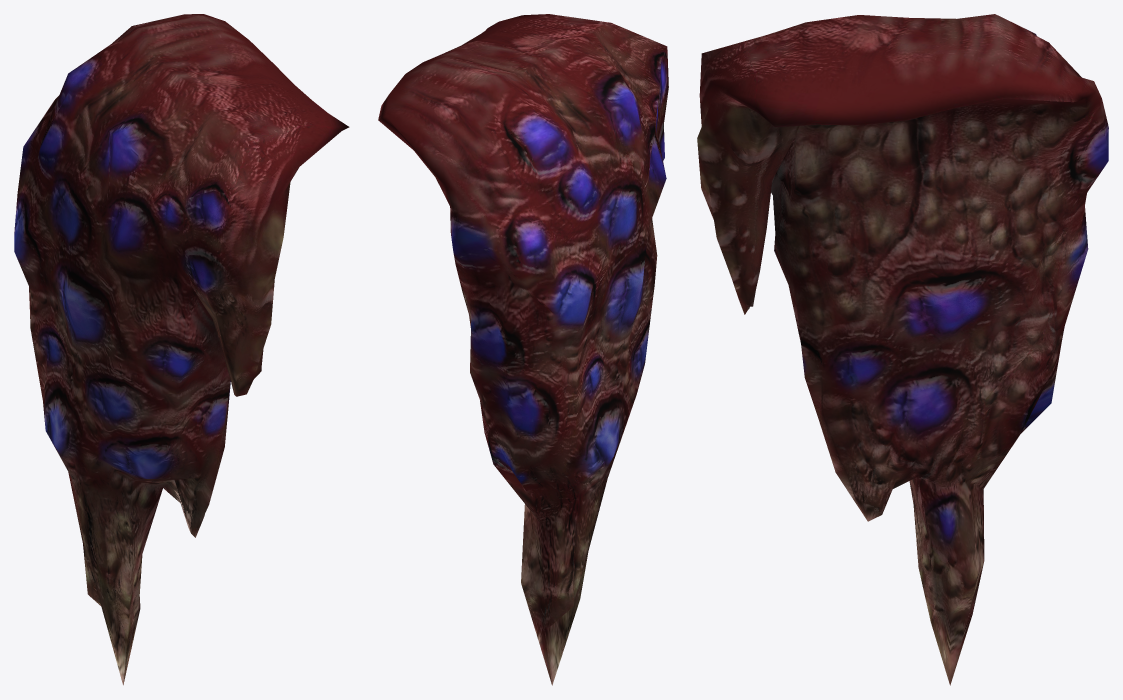
Rendered from FBX_goo_overhang.fbx.
The picture shows the model from 3 angles, left to right: view 1: azimuth 30°, elevation 25°; view 2: azimuth 150°, elevation 25°; view 3: azimuth 270°, elevation 25°; orthographic projection. The views are drawn at different scales.
Visible parts, largest first — view 1: goo_overhang_geo; view 2: goo_overhang_geo; view 3: goo_overhang_geo.
Part boxes in pixels (x1,y1,x2,y2): goo_overhang_geo: (14,14,349,685); goo_overhang_geo: (378,14,668,685); goo_overhang_geo: (697,14,1108,685).
Bounding box in the file's own units: 1.05 × 1.55 × 2.87.
